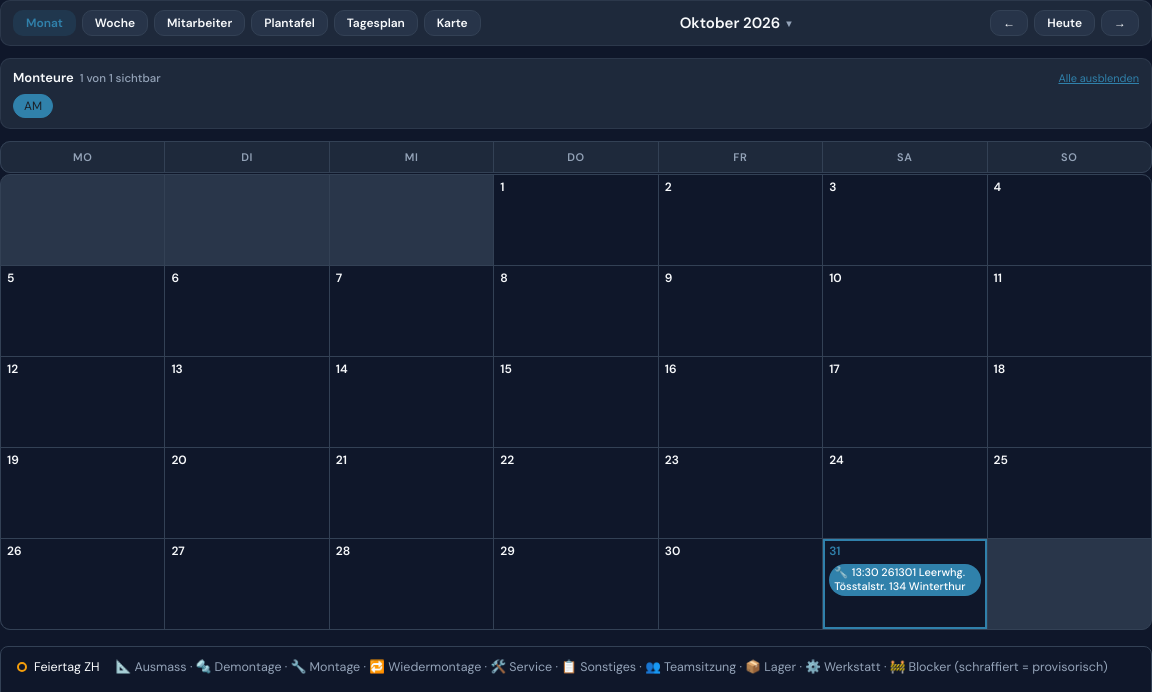
Test case: Projektnummer auf der Kachel › zeigt sie in der Wochenansicht
Click the button "Woche": coordinates (115, 23) top-left (82, 10), bottom-right (148, 36)
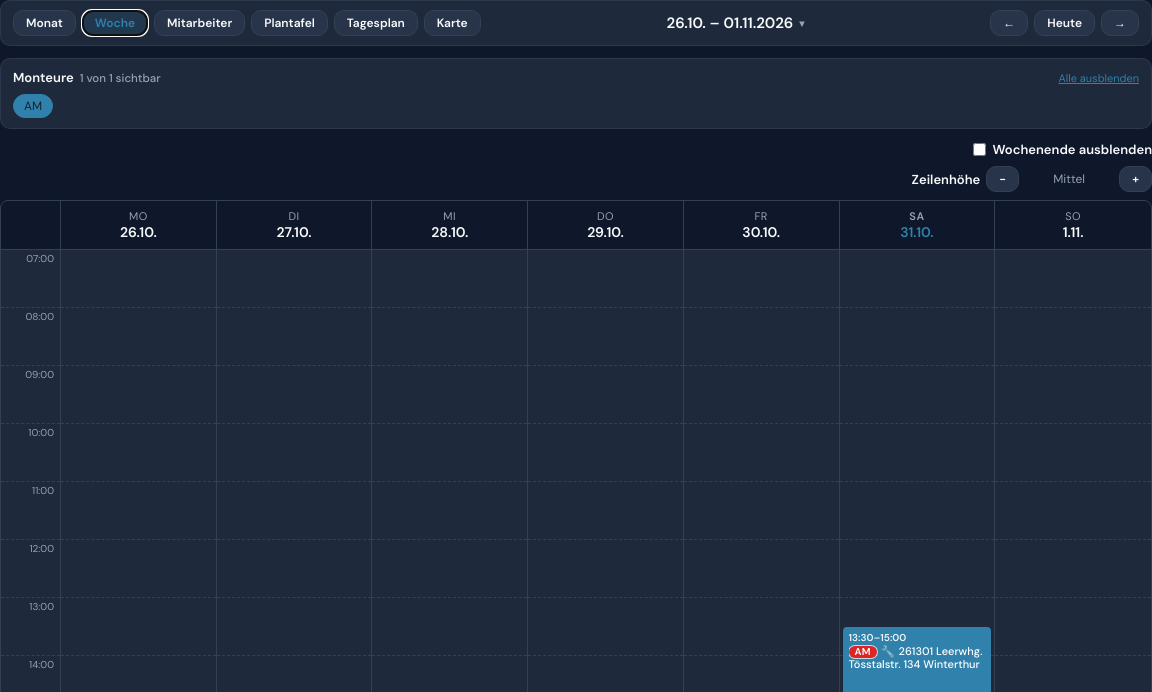
expect the text "AM 🔧261301 Leerwhg. Tösstalstr. 134 Winterthur" is shown: met, box top-left (849, 645), bottom-right (985, 671)
